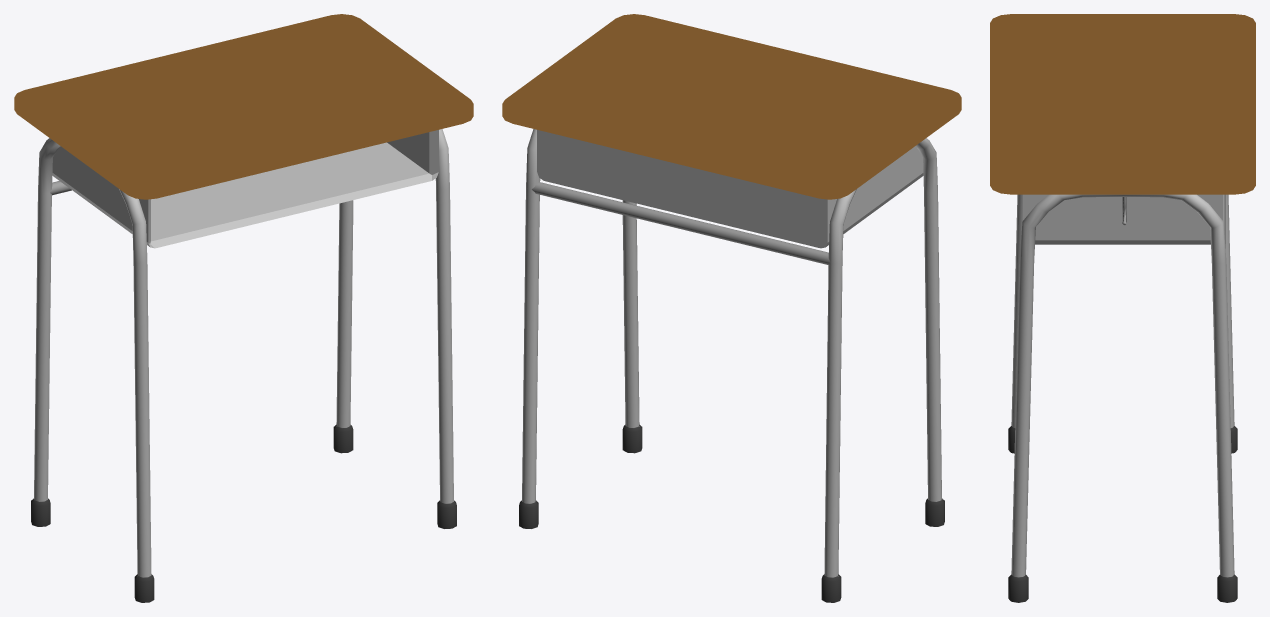
File: school_desk.fbx
The picture shows the model from 3 angles, left to right: view 1: azimuth 30°, elevation 25°; view 2: azimuth 150°, elevation 25°; view 3: azimuth 270°, elevation 25°; orthographic projection.
Visible parts, largest first — view 1: Desk; view 2: Desk; view 3: Desk.
Boxes of the visible parts, <box> form: Desk: <box>14,14,473,602</box>; Desk: <box>502,14,961,602</box>; Desk: <box>990,14,1255,602</box>.
Size of the model in its own units: 0.6 by 0.7069 by 0.4.
